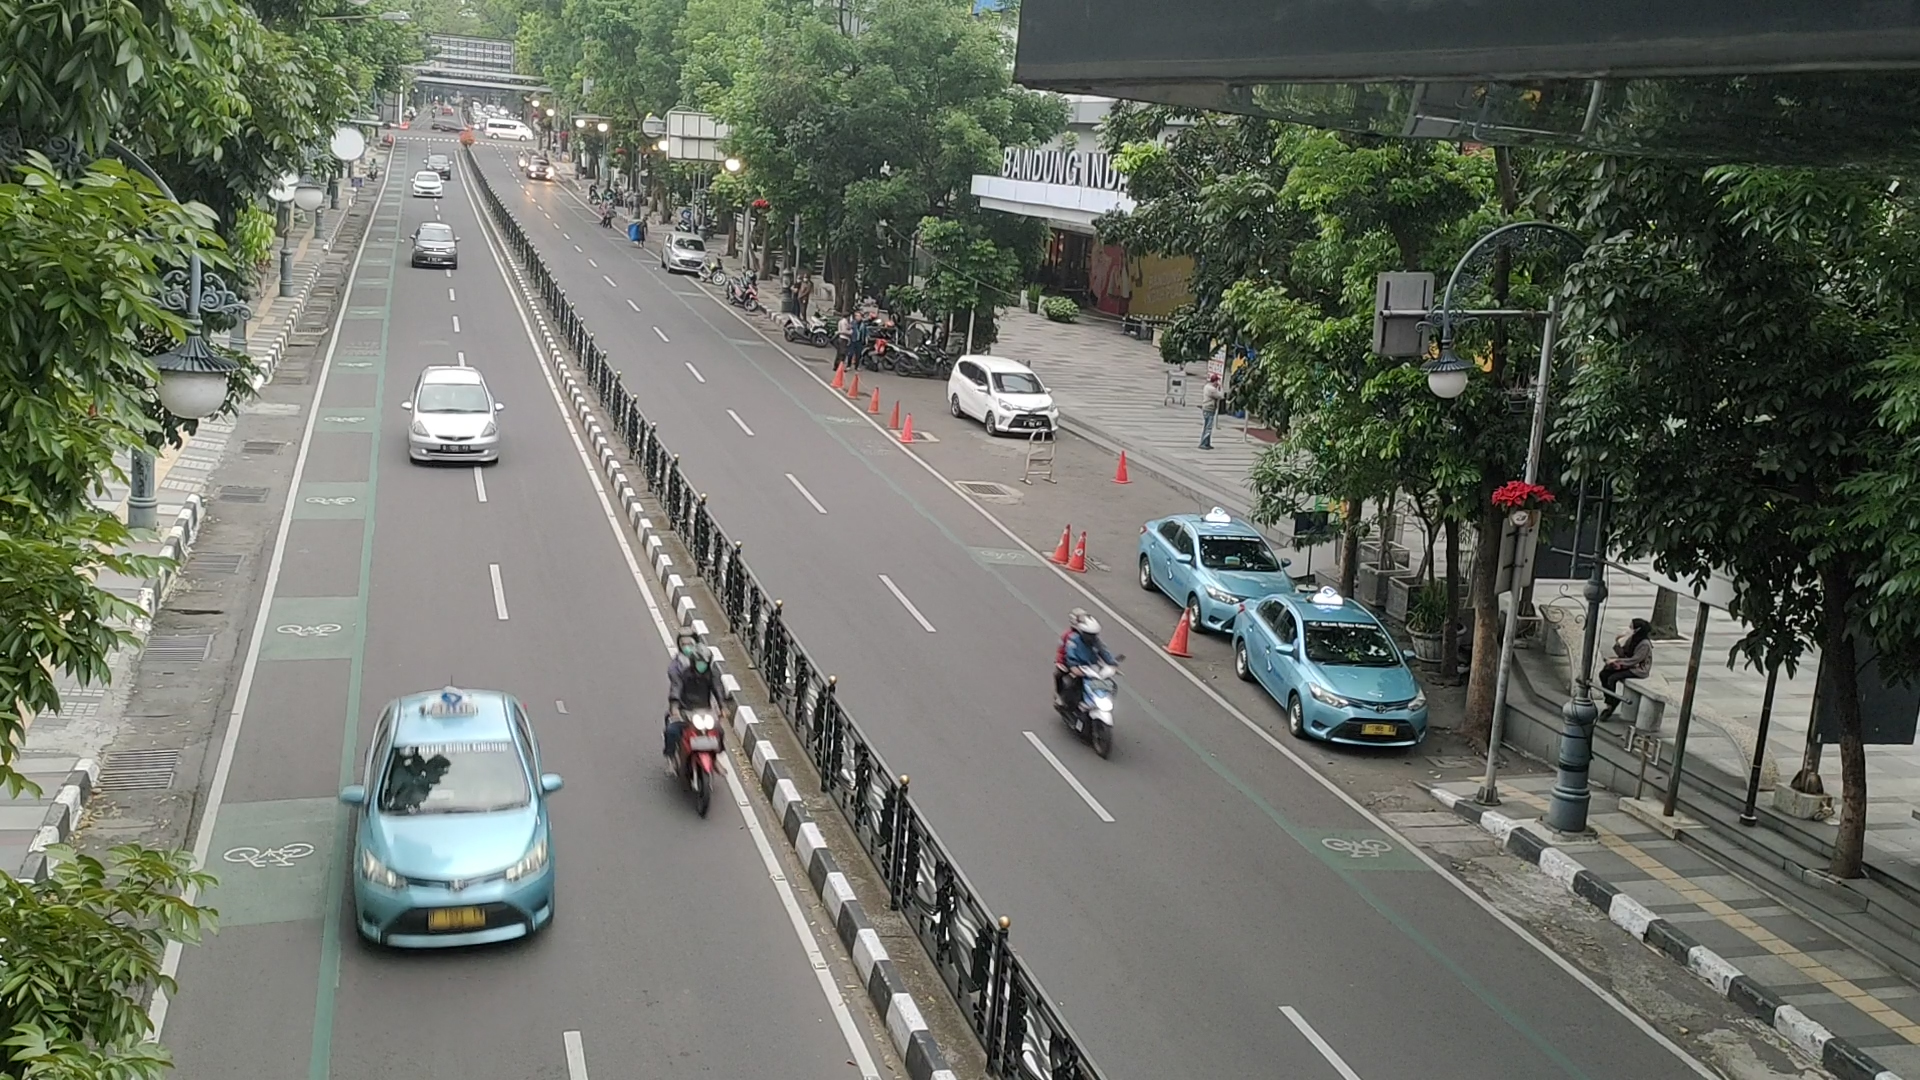mobil: (345, 741, 555, 953), (1288, 617, 1429, 756), (404, 381, 502, 473), (988, 369, 1059, 438)
motor: (659, 618, 737, 822), (1052, 604, 1134, 758)
